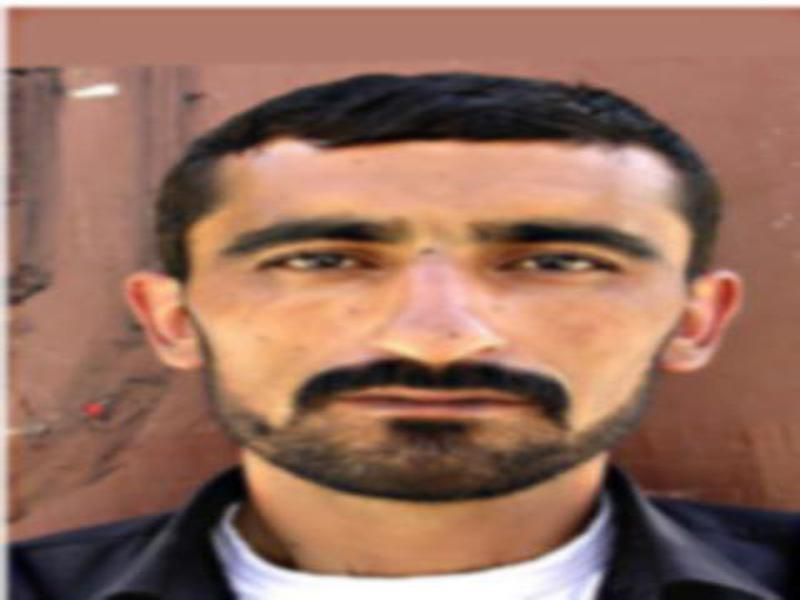without_mask: (196, 142, 684, 504)
